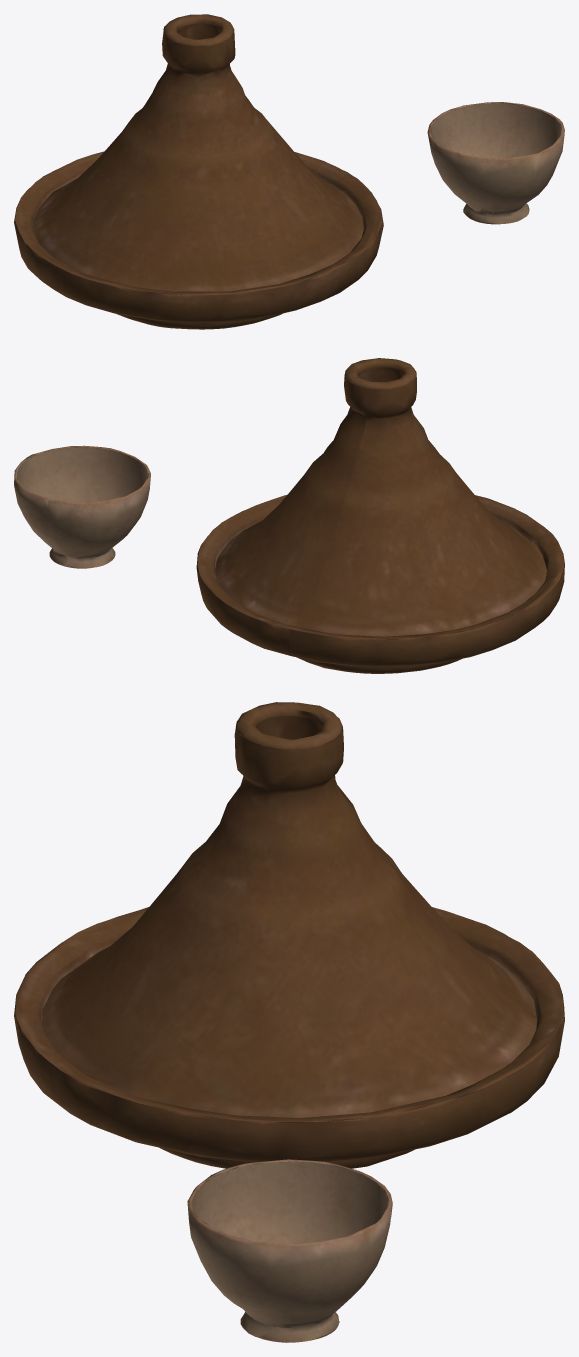
The model's file is tajine_pot.glb.
3 views of the same model, one above another, from view 1: azimuth 30°, elevation 25°; view 2: azimuth 150°, elevation 25°; view 3: azimuth 270°, elevation 25° (orthographic). The views are drawn at different scales.
Parts seen in each view (by area): view 1: Object_3, Object_2; view 2: Object_3, Object_2; view 3: Object_3, Object_2.
Boxes of the visible parts, box(x1,y1,x2,y2) form: Object_3: box(33, 14, 363, 291); Object_2: box(14, 102, 564, 329); Object_3: box(215, 358, 546, 636); Object_2: box(14, 445, 564, 673); Object_3: box(42, 702, 536, 1117); Object_2: box(14, 907, 564, 1342).
Size of the model in its own units: 15.96 by 7.57 by 9.85.
1 material, 1 textured.
